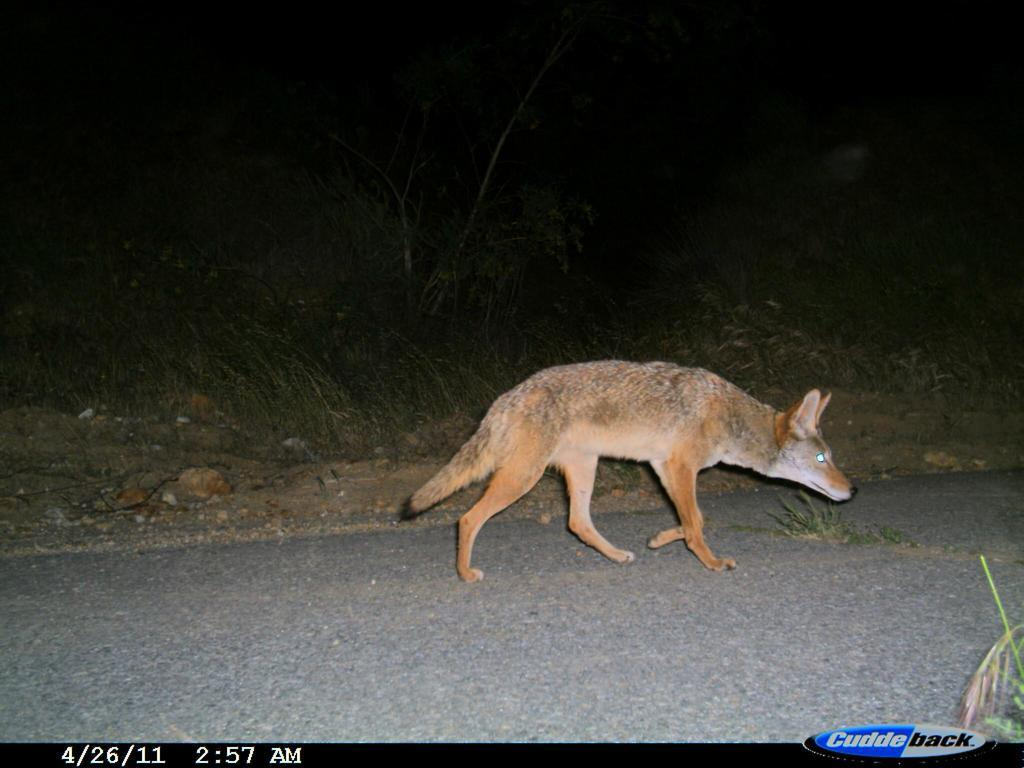coyote: (397, 356, 858, 591)
